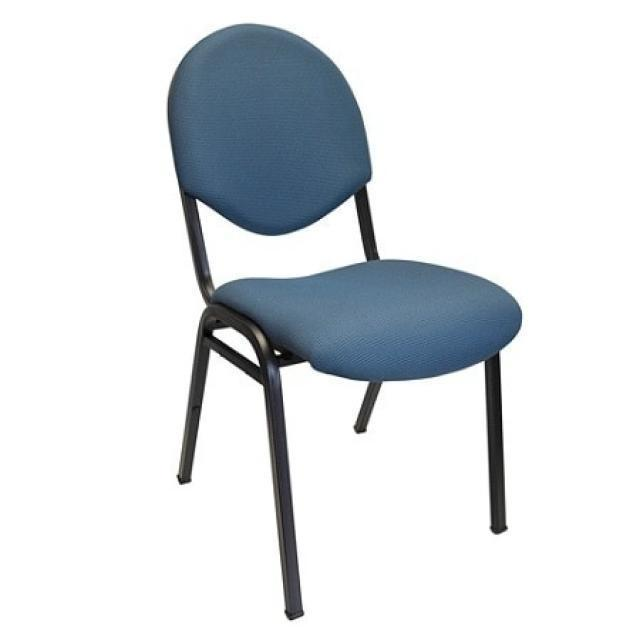chair: (162, 20, 531, 620)
